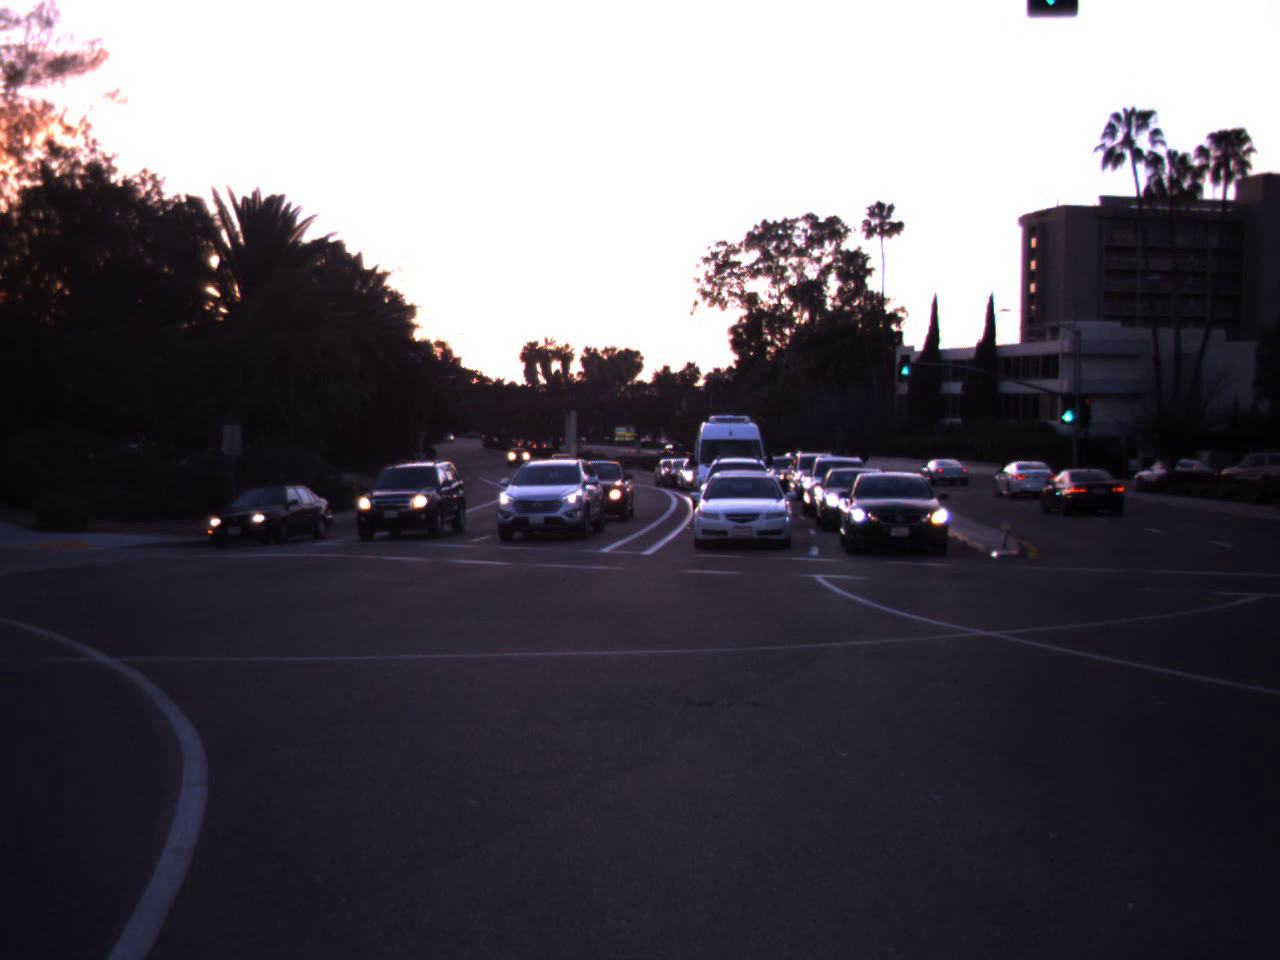go: (1054, 380, 1081, 425), (891, 338, 918, 378)
